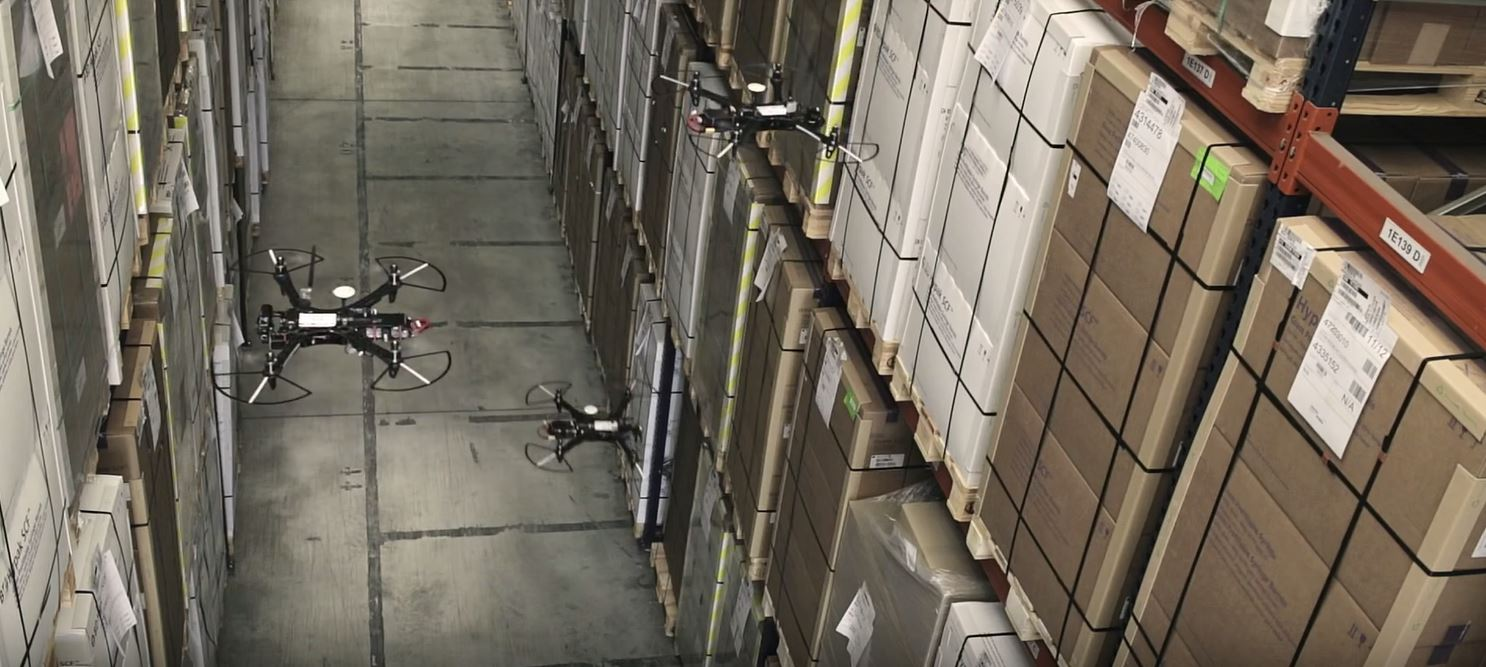drone: (208, 246, 457, 408), (661, 60, 881, 179), (520, 377, 670, 475)
